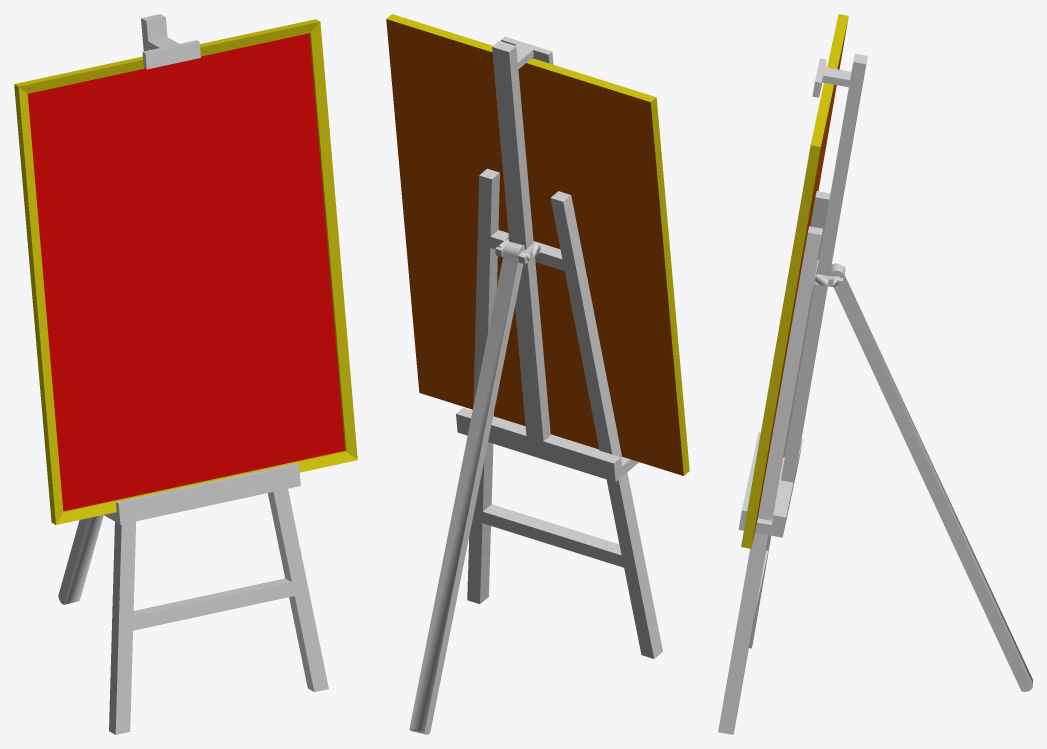
Rendered from Easel.fbx.
3 views of the same model, side by side, from view 1: azimuth 30°, elevation 25°; view 2: azimuth 150°, elevation 25°; view 3: azimuth 270°, elevation 25° (orthographic). The views are drawn at different scales.
Visible parts, largest first — view 1: main, legs, back; view 2: main, legs, back; view 3: legs, back, main.
Part boxes in pixels (bbox=[...]): main: bbox=[14, 19, 357, 524]; legs: bbox=[104, 14, 328, 734]; back: bbox=[58, 515, 103, 604]; main: bbox=[386, 14, 689, 475]; legs: bbox=[456, 36, 662, 658]; back: bbox=[409, 241, 525, 734]; legs: bbox=[718, 53, 867, 734]; back: bbox=[829, 263, 1032, 691]; main: bbox=[741, 14, 848, 548].
Size of the model in its own units: 22.36 by 47.9 by 21.64.
